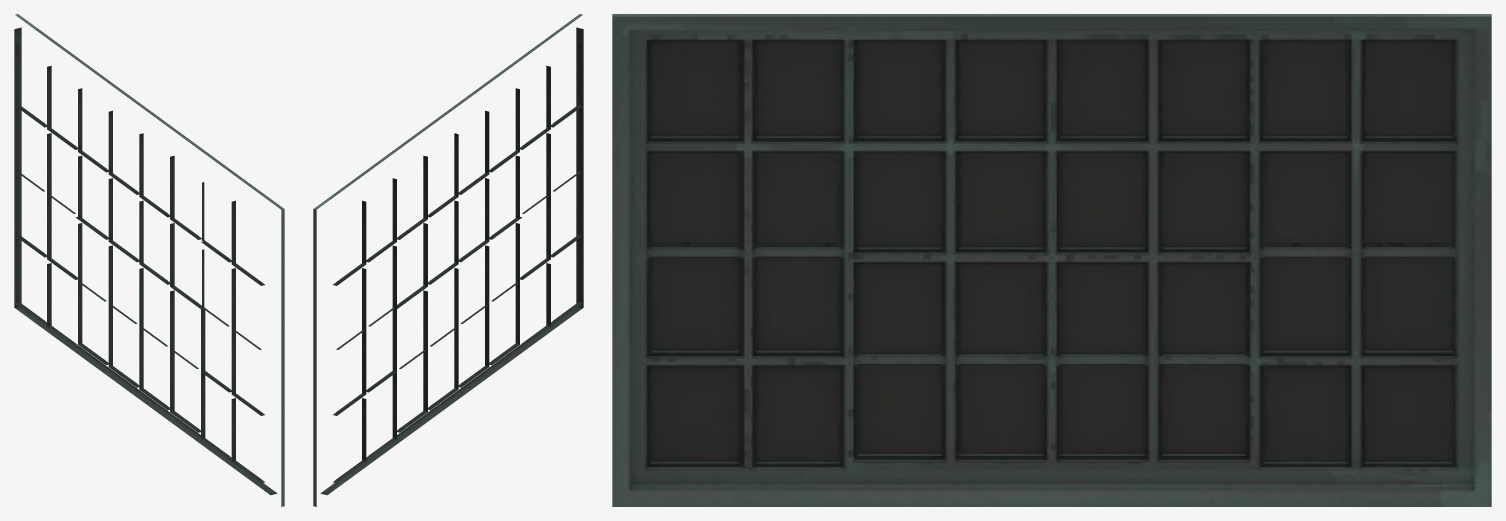
3 renders of one model, left to right at view 1: azimuth 30°, elevation 25°; view 2: azimuth 150°, elevation 25°; view 3: azimuth 270°, elevation 25°, orthographic. The views are drawn at different scales.
Parts seen in each view (by area): view 1: body0_model0_lod0_mesh0; view 2: body0_model0_lod0_mesh0; view 3: body0_model0_lod0_mesh0.
Boxes of the visible parts, x1,y1,x2,y2 form: body0_model0_lod0_mesh0: (14, 14, 284, 506); body0_model0_lod0_mesh0: (313, 14, 583, 506); body0_model0_lod0_mesh0: (612, 14, 1491, 506).
Bounding box in the file's own units: 5.99 × 128 × 208.
1 material, 1 textured.
